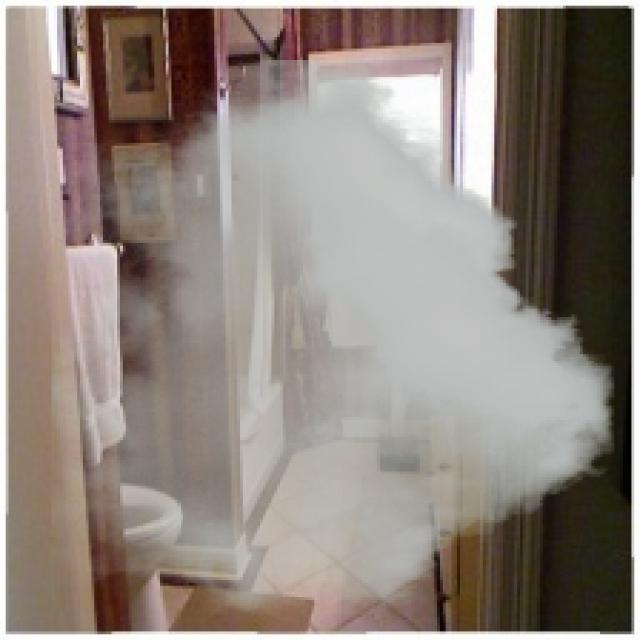Smoke: (51, 60, 614, 614)
